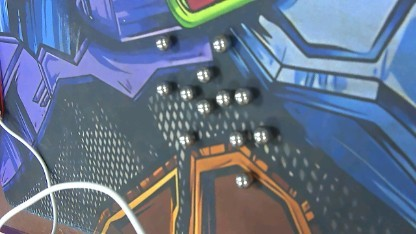ironball: (226, 169, 256, 193), (189, 61, 215, 82), (223, 129, 246, 150), (176, 84, 196, 104), (231, 86, 253, 103), (174, 132, 197, 148), (253, 125, 269, 148), (195, 100, 211, 119), (150, 33, 166, 50), (215, 90, 230, 107), (212, 35, 228, 50), (153, 81, 167, 94)
